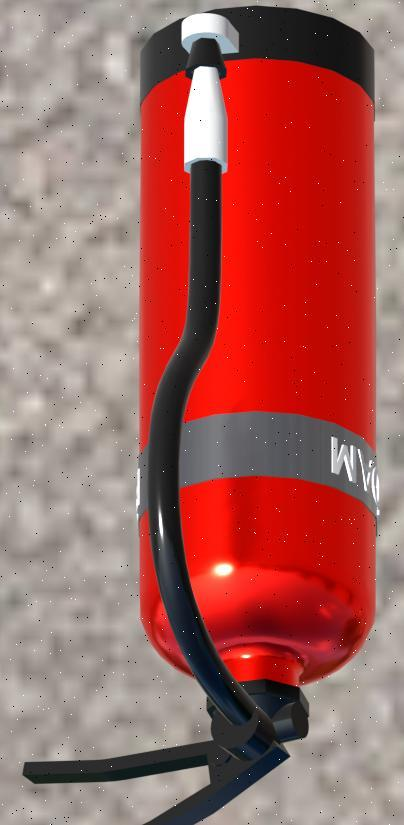Fire Extinguisher: (45, 7, 385, 820)
